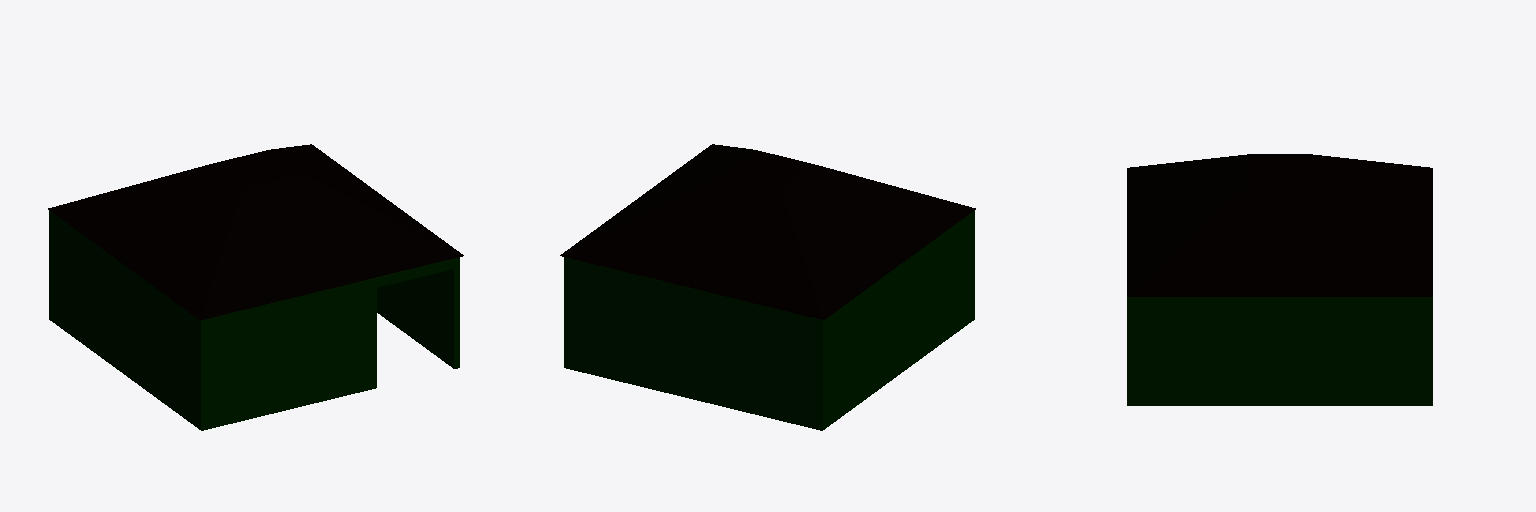
Rendered from testColoredHouse.obj.
3 renders of one model, left to right at view 1: azimuth 30°, elevation 25°; view 2: azimuth 150°, elevation 25°; view 3: azimuth 270°, elevation 25°, orthographic.
Parts seen in each view (by area): view 1: pCube3, pCube2, pCube1, pasted__pCube1 group, pasted__pCube2 group3; view 2: pCube3, pasted__pasted__pCube1 pasted__group group1, pCube1; view 3: pCube3, pasted__pCube1 group.
Part boxes in pixels (bbox=[...]): pCube3: bbox=[48, 144, 463, 319]; pCube2: bbox=[204, 279, 376, 429]; pCube1: bbox=[49, 210, 203, 430]; pasted__pCube1 group: bbox=[377, 257, 459, 368]; pasted__pCube2 group3: bbox=[370, 258, 457, 288]; pCube3: bbox=[560, 144, 975, 319]; pasted__pasted__pCube1 pasted__group group1: bbox=[564, 257, 820, 430]; pCube1: bbox=[821, 210, 974, 430]; pCube3: bbox=[1127, 154, 1432, 296]; pasted__pCube1 group: bbox=[1127, 297, 1432, 405].
Size of the model in its own units: 25 by 15.73 by 25.04.